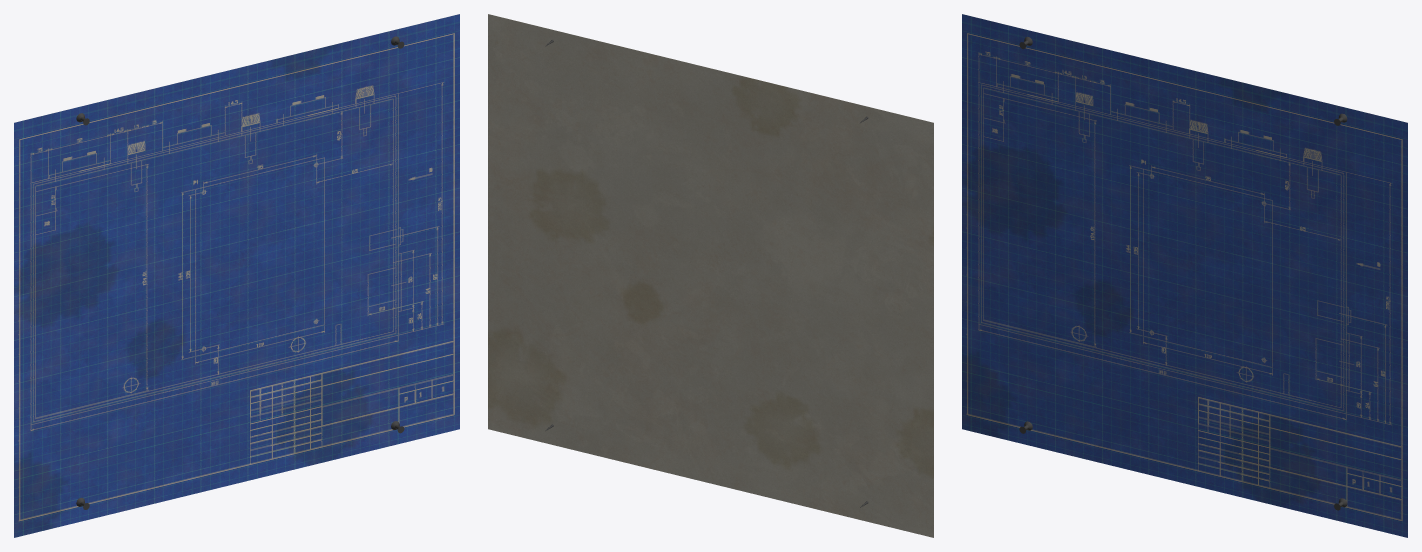
File: Blueprints14.FBX
The picture shows the model from 3 angles, left to right: view 1: azimuth 30°, elevation 25°; view 2: azimuth 150°, elevation 25°; view 3: azimuth 330°, elevation 25°; orthographic projection.
Parts seen in each view (by area): view 1: Blueprint14; view 2: Blueprint14; view 3: Blueprint14.
Part boxes in pixels (x1,y1,x2,y2): Blueprint14: (14,14,459,537); Blueprint14: (488,14,933,537); Blueprint14: (962,14,1407,537).
Size of the model in its own units: 96.77 by 86.1 by 4.99.
